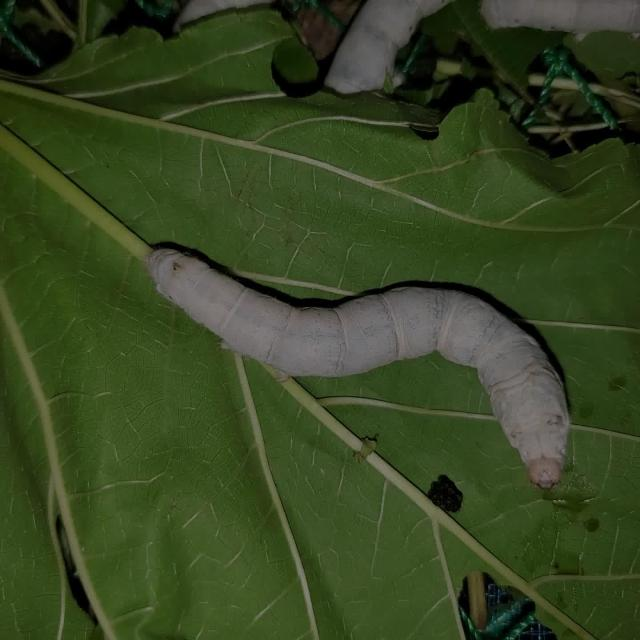Healthy: (114, 206, 640, 515)
